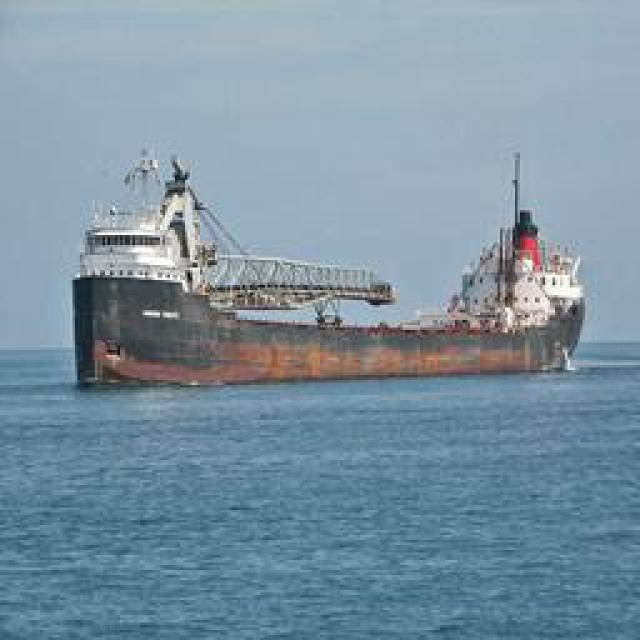Ship: (79, 151, 599, 394)
